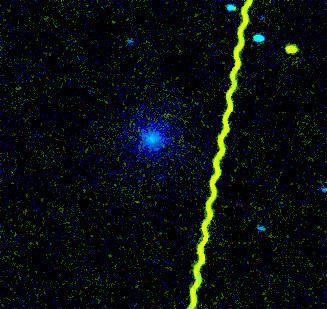star: (276, 33, 306, 63)
